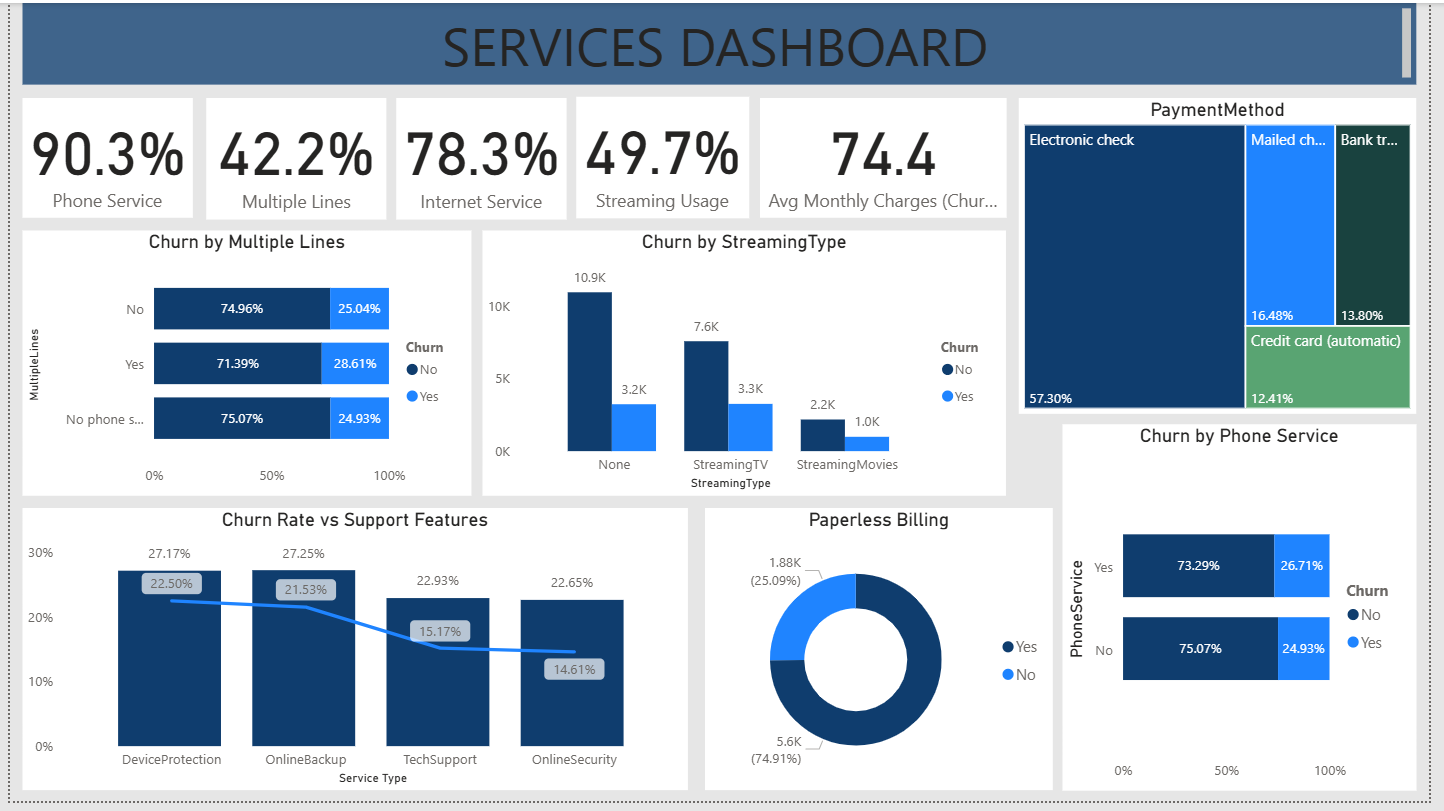

What the dashboard file says about the page in this screenshot:
{"tool":"powerbi","page":{"name":"Services","canvas":[1280,720],"ordinal":2},"visuals":[{"type":"textbox","box":[11.3,0,1256.7,73.3],"z":0},{"type":"card","fields":{"Values":["WA_Fn-UseC_-Telco-Customer-Chur.PctWithPhoneService"]},"box":[11.3,85.7,153.3,108.2],"z":1000},{"type":"card","fields":{"Values":["WA_Fn-UseC_-Telco-Customer-Chur.PctWithMultipleLines"]},"box":[176.7,86,162.8,109.3],"z":2000},{"type":"card","fields":{"Values":["WA_Fn-UseC_-Telco-Customer-Chur.PctWithInternetService"]},"box":[348.8,86,153.5,109.3],"z":3000},{"type":"card","fields":{"Values":["WA_Fn-UseC_-Telco-Customer-Chur.AvgMonthlyCharges_Churned"]},"box":[676.3,85.7,222,108.2],"z":4000},{"type":"hundredPercentStackedBarChart","title":"Churn by Phone Service ","fields":{"Series":["WA_Fn-UseC_-Telco-Customer-Chur.Churn"],"Y":["CountNonNull(WA_Fn-UseC_-Telco-Customer-Chur.customerID)"],"Category":["WA_Fn-UseC_-Telco-Customer-Chur.PhoneService"]},"box":[949,379.8,319,330.2],"z":5000},{"type":"hundredPercentStackedBarChart","title":"Churn by Multiple Lines","fields":{"Series":["WA_Fn-UseC_-Telco-Customer-Chur.Churn"],"Y":["CountNonNull(WA_Fn-UseC_-Telco-Customer-Chur.customerID)"],"Category":["WA_Fn-UseC_-Telco-Customer-Chur.MultipleLines"]},"box":[11.3,205.1,404.6,238.9],"z":6000},{"type":"clusteredColumnChart","title":"Churn by StreamingType","fields":{"Series":["WA_Fn-UseC_-Telco-Customer-Chur.Churn"],"Y":["CountNonNull(WA_Fn-UseC_-Telco-Customer-Chur.customerID)"],"Category":["WA_Fn-UseC_-Telco-Customer-Chur.StreamingType"]},"box":[426.1,205.1,472.3,238.9],"z":7000},{"type":"treemap","title":"PaymentMethod","fields":{"Group":["WA_Fn-UseC_-Telco-Customer-Chur.PaymentMethod"],"Values":["WA_Fn-UseC_-Telco-Customer-Chur.PaymentMethodPct"]},"box":[909.6,85.7,358.4,285.2],"z":8000},{"type":"donutChart","title":"Paperless Billing","fields":{"Category":["WA_Fn-UseC_-Telco-Customer-Chur.PaperlessBilling"],"Y":["CountNonNull(WA_Fn-UseC_-Telco-Customer-Chur.customerID)"]},"box":[626.7,455.4,313.3,254.7],"z":9000},{"type":"lineClusteredColumnComboChart","title":"Churn Rate vs Support Features","fields":{"Category":["WA_Fn-UseC_-Telco-Customer-Chur.Service Type"],"Y2":["WA_Fn-UseC_-Telco-Customer-Chur.ChurnRate_PerService"],"Y":["WA_Fn-UseC_-Telco-Customer-Chur.ServiceUsagePct"]},"box":[11.3,455.4,599.6,254.7],"z":10000},{"type":"card","fields":{"Values":["WA_Fn-UseC_-Telco-Customer-Chur.Streaming Usage"]},"box":[510.5,84.9,155.8,109.3],"z":11000}]}

Visuals, with their boxes in screenshot pixels (x1, y1, x2, y2), scaled from the page's 1280x720 canvas onto the 1444x811 screenshot:
textbox: rect(13, 0, 1430, 83)
card - WA_Fn-UseC_-Telco-Customer-Chur.PctWithPhoneService: rect(13, 97, 186, 218)
card - WA_Fn-UseC_-Telco-Customer-Chur.PctWithMultipleLines: rect(199, 97, 383, 220)
card - WA_Fn-UseC_-Telco-Customer-Chur.PctWithInternetService: rect(393, 97, 567, 220)
card - WA_Fn-UseC_-Telco-Customer-Chur.AvgMonthlyCharges_Churned: rect(763, 97, 1013, 218)
"Churn by Phone Service " hundredPercentStackedBarChart: rect(1071, 428, 1430, 800)
"Churn by Multiple Lines" hundredPercentStackedBarChart: rect(13, 231, 469, 500)
"Churn by StreamingType" clusteredColumnChart: rect(481, 231, 1014, 500)
"PaymentMethod" treemap: rect(1026, 97, 1430, 418)
"Paperless Billing" donutChart: rect(707, 513, 1060, 800)
"Churn Rate vs Support Features" lineClusteredColumnComboChart: rect(13, 513, 689, 800)
card - WA_Fn-UseC_-Telco-Customer-Chur.Streaming Usage: rect(576, 96, 752, 219)
